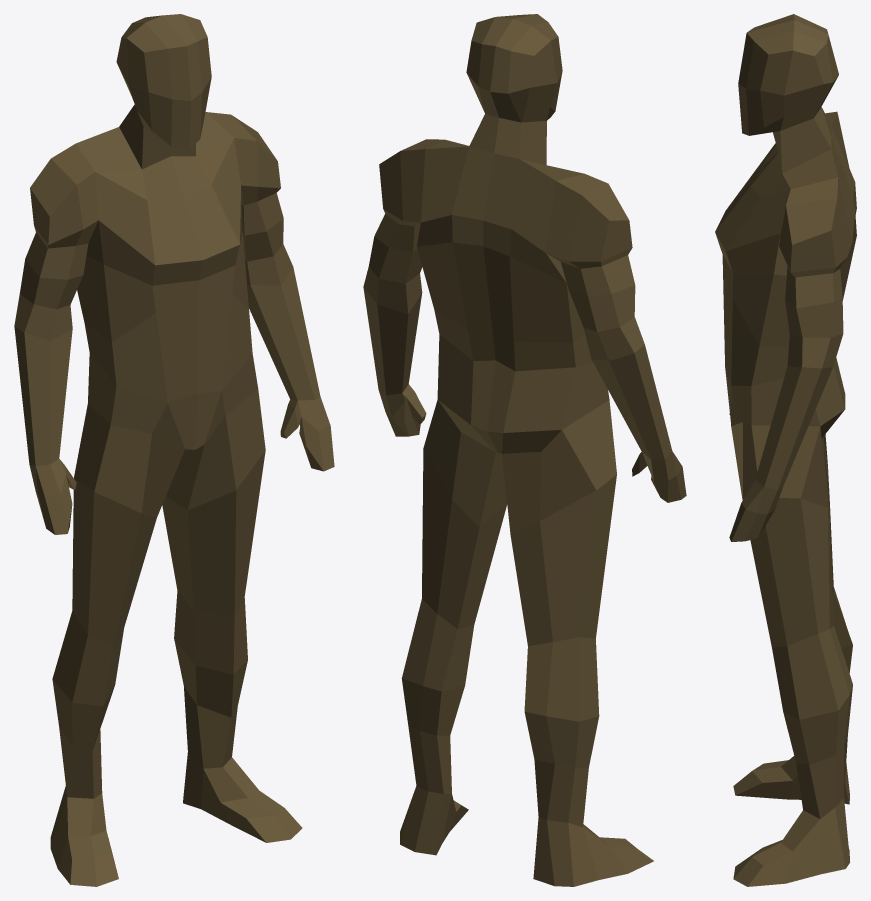
Rendered from basic_male.obj.
3 views of the same model, side by side, from view 1: azimuth 30°, elevation 25°; view 2: azimuth 150°, elevation 25°; view 3: azimuth 270°, elevation 25° (orthographic). The views are drawn at different scales.
Visible parts, largest first — view 1: Cube; view 2: Cube; view 3: Cube.
Boxes of the visible parts, x1,y1,x2,y2 form: Cube: (14,14,334,886); Cube: (363,14,686,886); Cube: (715,14,856,886).
Bounding box in the file's own units: 0.8905 × 2.45 × 0.3877.
